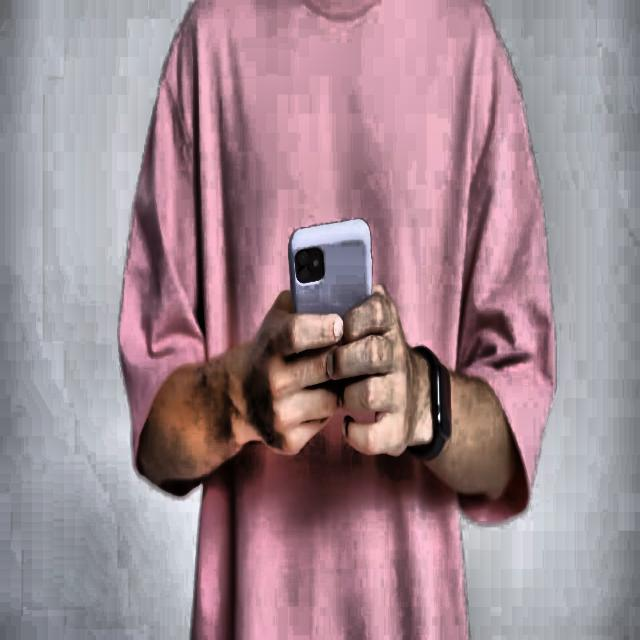Phone: (287, 215, 376, 328)
